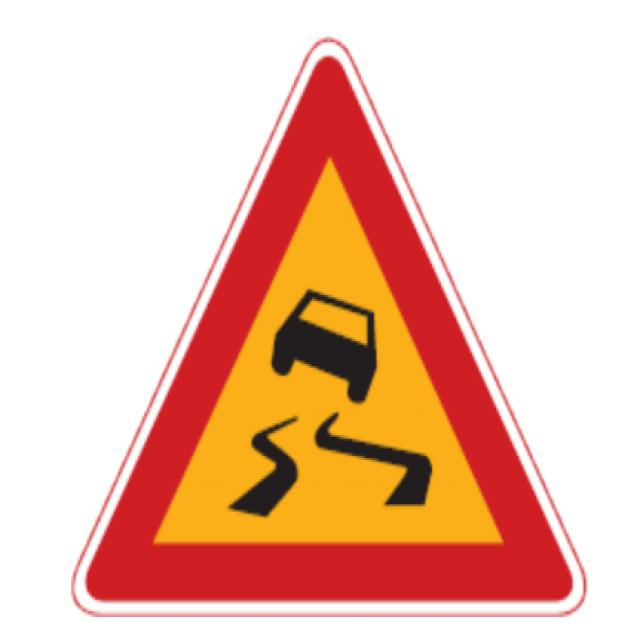Slippery_road: (59, 24, 600, 622)
